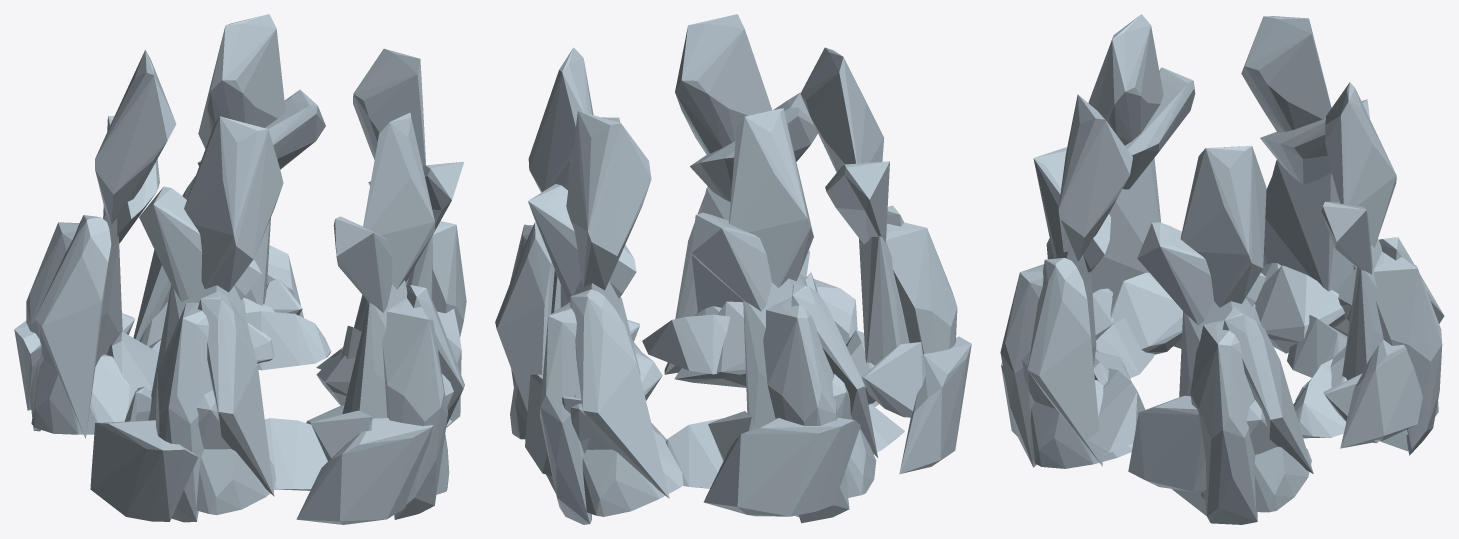
The model's file is RockColumn.fbx.
3 renders of one model, left to right at view 1: azimuth 30°, elevation 25°; view 2: azimuth 150°, elevation 25°; view 3: azimuth 270°, elevation 25°, orthographic. The views are drawn at different scales.
Parts seen in each view (by area): view 1: RockColumns; view 2: RockColumns; view 3: RockColumns.
Part boxes in pixels (<box>): RockColumns: <box>14,14,466,524</box>; RockColumns: <box>495,14,971,524</box>; RockColumns: <box>1000,14,1444,524</box>.
Bounding box in the file's own units: 1043 × 999 × 1026.
